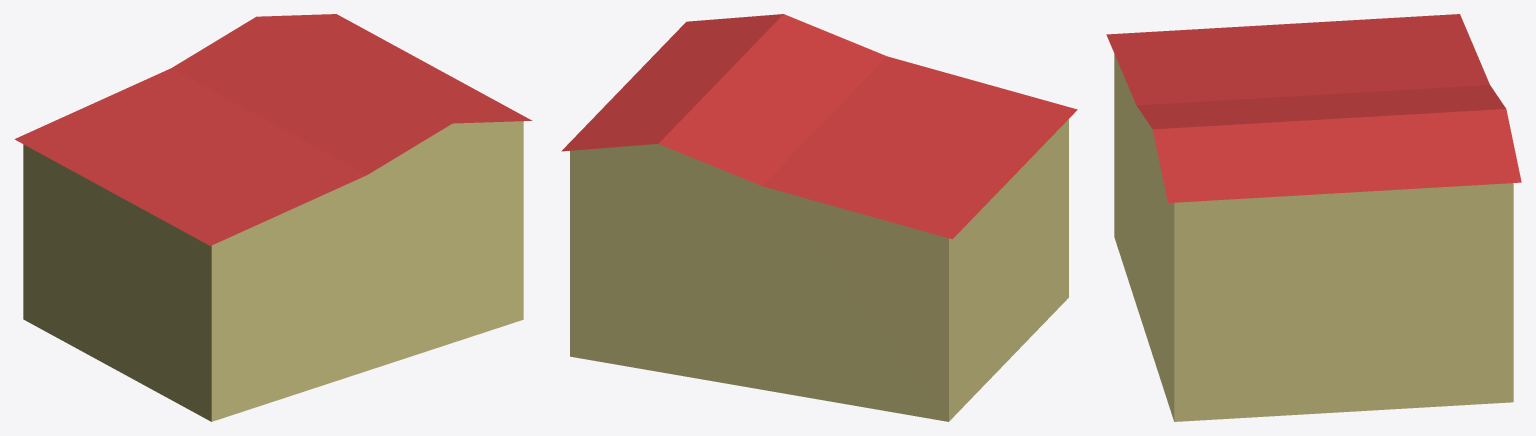
The picture shows the model from 3 angles, left to right: view 1: azimuth 30°, elevation 25°; view 2: azimuth 150°, elevation 25°; view 3: azimuth 270°, elevation 25°; orthographic projection. The views are drawn at different scales.
Size of the model in its own units: 17.12 by 14.25 by 9.41.
